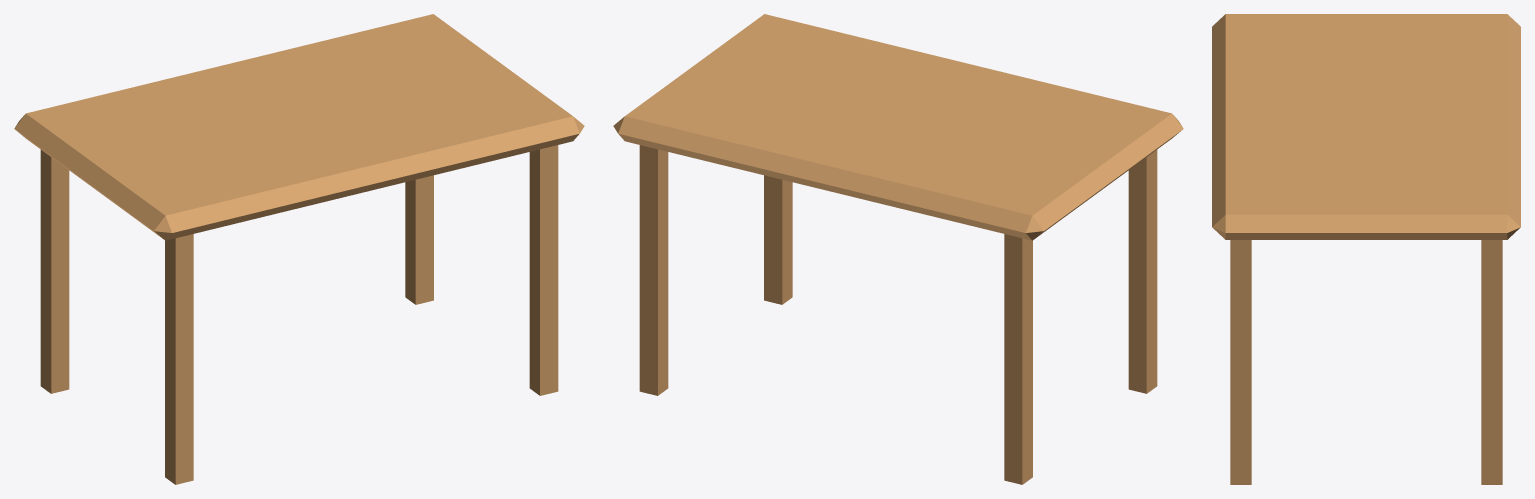
File: table.glb
The picture shows the model from 3 angles, left to right: view 1: azimuth 30°, elevation 25°; view 2: azimuth 150°, elevation 25°; view 3: azimuth 270°, elevation 25°; orthographic projection.
Parts seen in each view (by area): view 1: table; view 2: table; view 3: table.
Boxes of the visible parts, <box> form: table: <box>14,14,584,484</box>; table: <box>613,14,1183,484</box>; table: <box>1212,14,1520,484</box>.
Size of the model in its own units: 1.3 by 0.7901 by 0.8.
